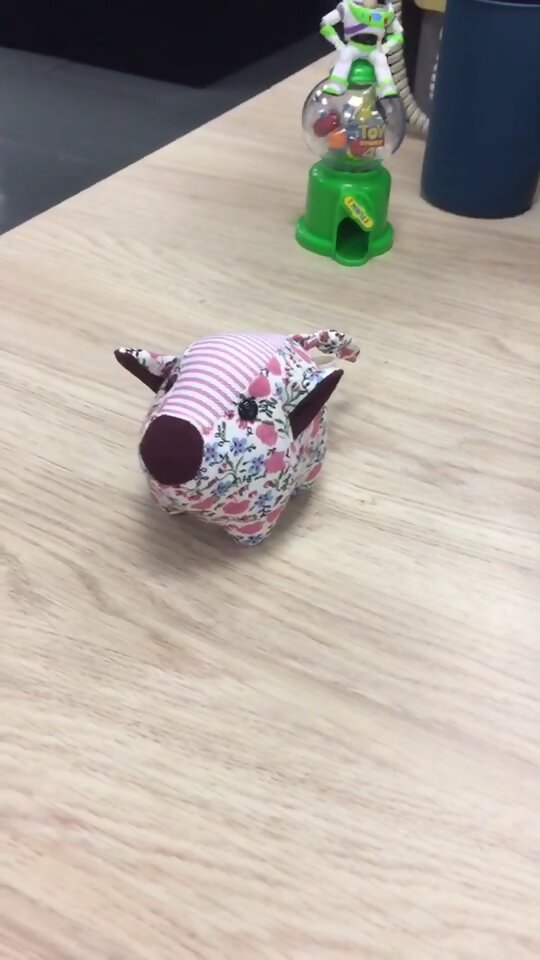pig: (112, 324, 364, 551)
